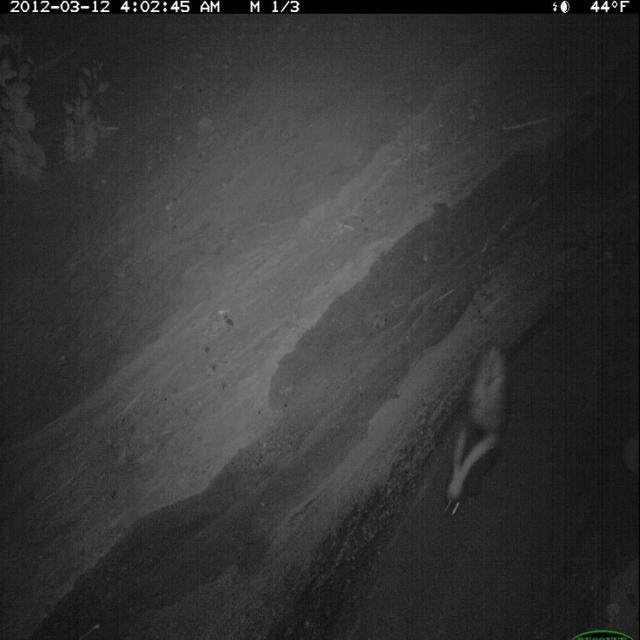skunk: (440, 338, 522, 520)
